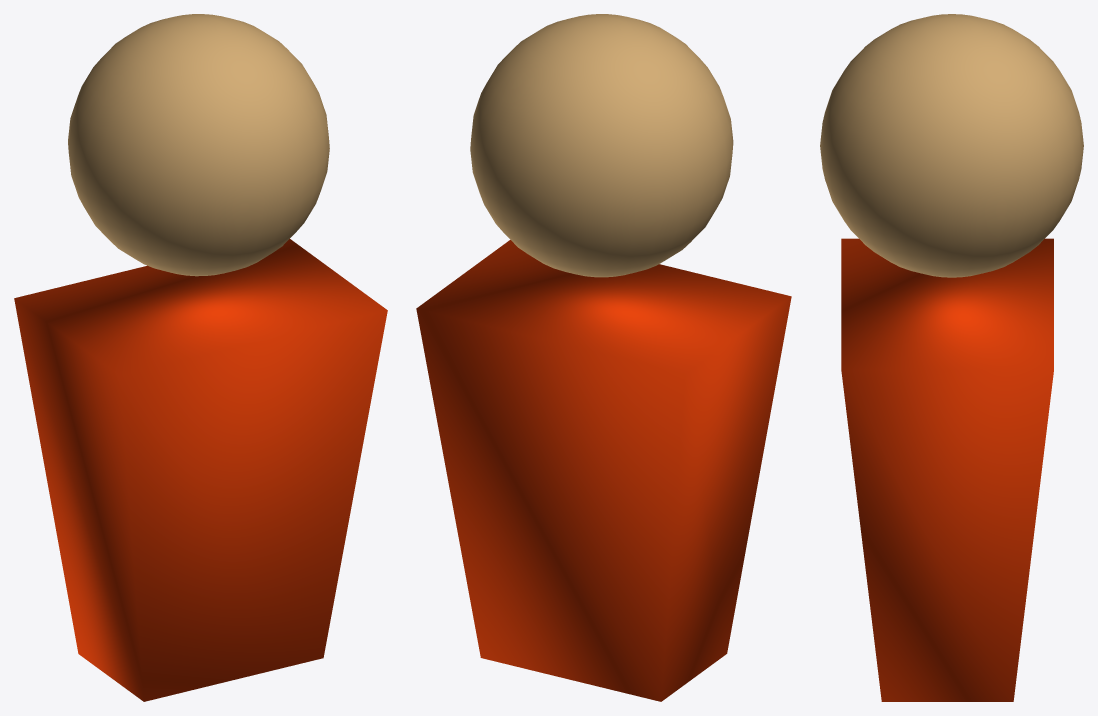
File: Employee.fbx
3 views of the same model, side by side, from view 1: azimuth 30°, elevation 25°; view 2: azimuth 150°, elevation 25°; view 3: azimuth 270°, elevation 25° (orthographic).
Parts seen in each view (by area): view 1: Body; view 2: Body; view 3: Body.
Part boxes in pixels (box(x1,y1,x2,y2)): Body: box(14, 14, 387, 701); Body: box(416, 14, 791, 701); Body: box(820, 14, 1083, 701).
Size of the model in its own units: 75.4 by 169 by 64.
